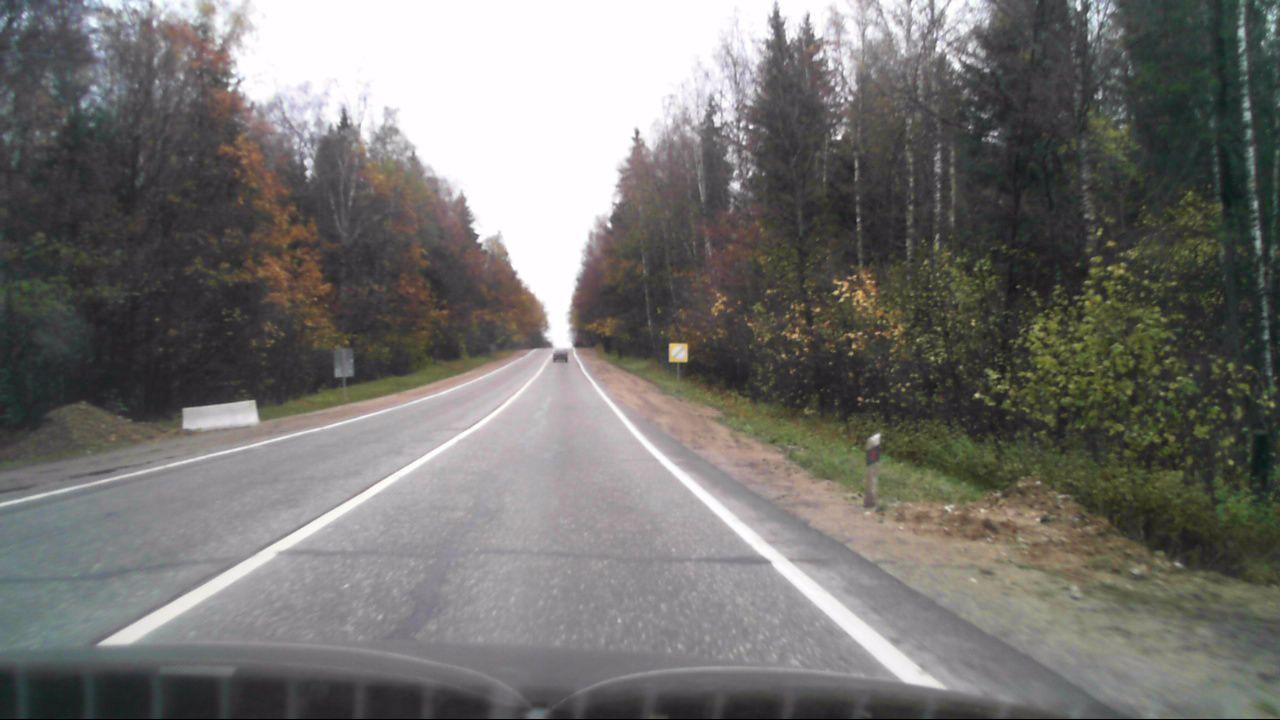3_31: (668, 342, 687, 362)
